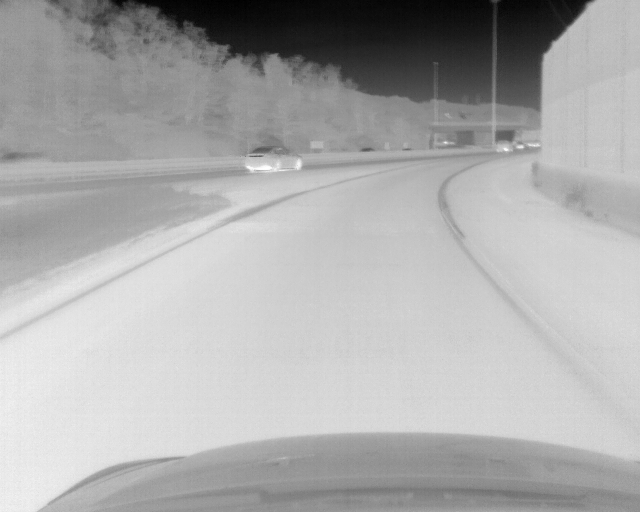car: (245, 144, 303, 172), (496, 139, 513, 153), (514, 143, 526, 150)
